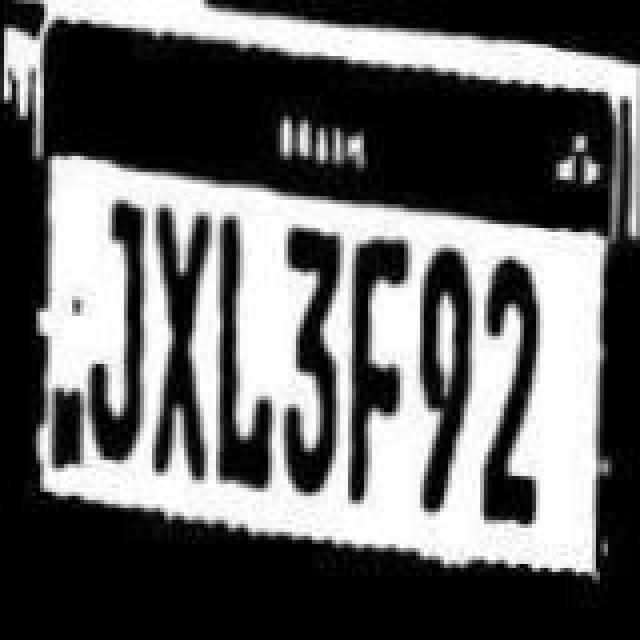2: (478, 252, 554, 532)
3: (282, 212, 346, 496)
9: (414, 246, 474, 522)
F: (346, 230, 418, 506)
J: (84, 194, 152, 486)
L: (214, 208, 278, 488)
X: (152, 194, 212, 478)
